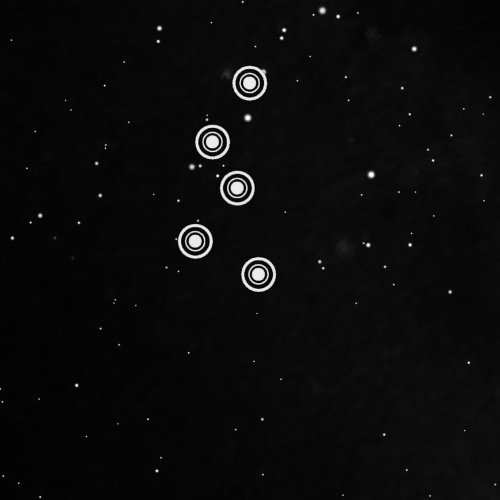cassiopeia: (167, 57, 286, 304)
